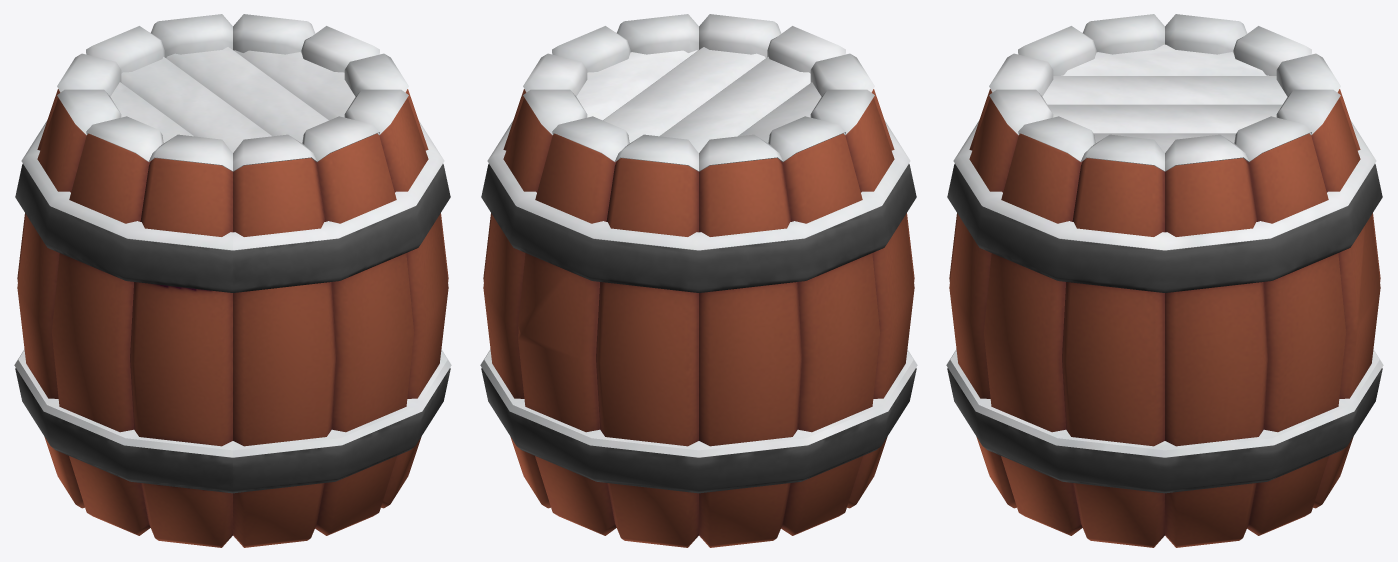
Rendered from WoodenBarrel.fbx.
3 renders of one model, left to right at view 1: azimuth 30°, elevation 25°; view 2: azimuth 150°, elevation 25°; view 3: azimuth 270°, elevation 25°, orthographic.
Parts seen in each view (by area): view 1: WoodenBarrel; view 2: WoodenBarrel; view 3: WoodenBarrel.
Boxes of the visible parts, box(x1,y1,x2,y2) form: WoodenBarrel: box(14, 14, 451, 547); WoodenBarrel: box(480, 14, 917, 547); WoodenBarrel: box(946, 14, 1383, 547).
Size of the model in its own units: 74.35 by 73.5 by 74.35.
